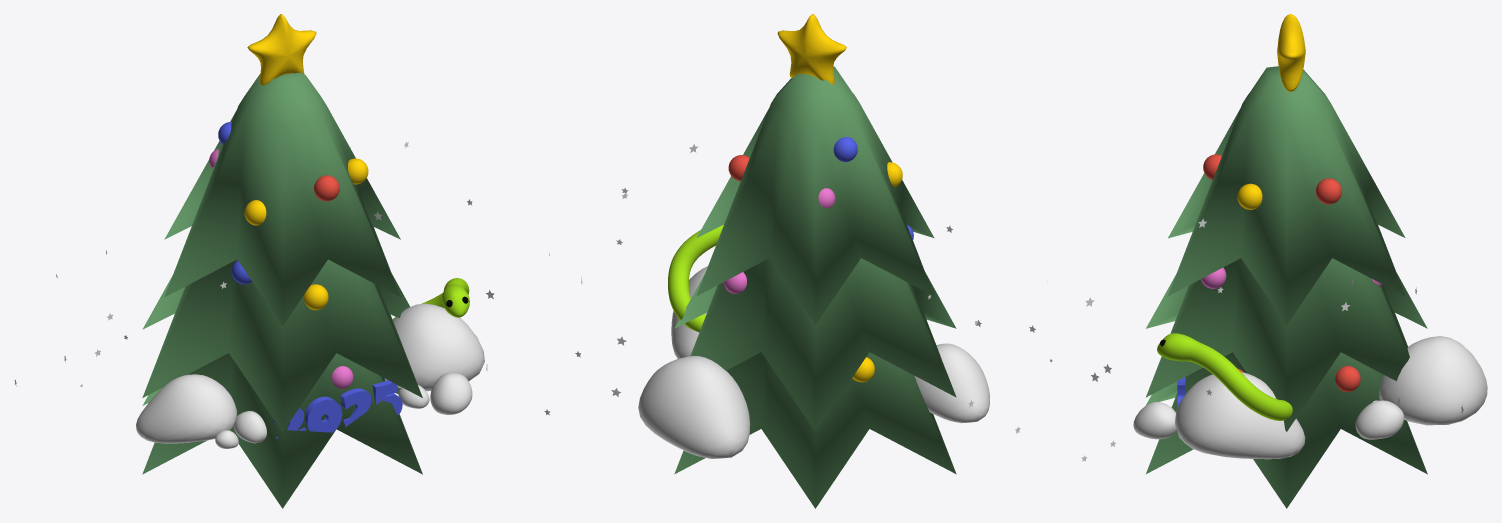
The picture shows the model from 3 angles, left to right: view 1: azimuth 30°, elevation 25°; view 2: azimuth 150°, elevation 25°; view 3: azimuth 270°, elevation 25°; orthographic projection.
Parts seen in each view (by area): view 1: Cylinder.005, Cylinder.003, Cylinder.002, Sphere.025, Sphere.023, Text.001, Zvezda.001, Zmeya.001; view 2: Cylinder.005, Cylinder.003, Cylinder.002, Sphere.024, Sphere.023, Zvezda.001, Zmeya.001, Sphere.025, Sphere.012; view 3: Cylinder.005, Cylinder.003, Cylinder.002, Sphere.024, Sphere.025, Zmeya.001, Zvezda.001, Sphere.011, Sphere.022, Sphere.008.
Boxes of the visible parts, x1=… form: Cylinder.005: x1=164, y1=72, x2=400, y2=326; Cylinder.003: x1=142, y1=259, x2=422, y2=432; Cylinder.002: x1=142, y1=353, x2=422, y2=508; Sphere.025: x1=384, y1=303, x2=484, y2=414; Sphere.023: x1=136, y1=374, x2=266, y2=448; Text.001: x1=273, y1=380, x2=402, y2=438; Zvezda.001: x1=247, y1=14, x2=316, y2=85; Zmeya.001: x1=392, y1=278, x2=469, y2=319; Cylinder.005: x1=696, y1=66, x2=934, y2=325; Cylinder.003: x1=674, y1=258, x2=956, y2=431; Cylinder.002: x1=674, y1=352, x2=956, y2=508; Sphere.024: x1=638, y1=356, x2=750, y2=458; Sphere.023: x1=914, y1=343, x2=989, y2=423; Zvezda.001: x1=777, y1=14, x2=846, y2=84; Zmeya.001: x1=668, y1=225, x2=723, y2=332; Sphere.025: x1=671, y1=266, x2=707, y2=358; Sphere.012: x1=833, y1=137, x2=857, y2=161; Cylinder.005: x1=1168, y1=66, x2=1405, y2=325; Cylinder.003: x1=1146, y1=258, x2=1427, y2=431; Cylinder.002: x1=1146, y1=352, x2=1427, y2=508; Sphere.024: x1=1355, y1=336, x2=1487, y2=439; Sphere.025: x1=1133, y1=372, x2=1305, y2=459; Zmeya.001: x1=1157, y1=333, x2=1292, y2=420; Zvezda.001: x1=1277, y1=14, x2=1305, y2=91; Sphere.011: x1=1316, y1=178, x2=1341, y2=204; Sphere.022: x1=1237, y1=183, x2=1262, y2=209; Sphere.008: x1=1335, y1=366, x2=1360, y2=391.
Size of the model in its own units: 2.06 by 1.79 by 1.55.
